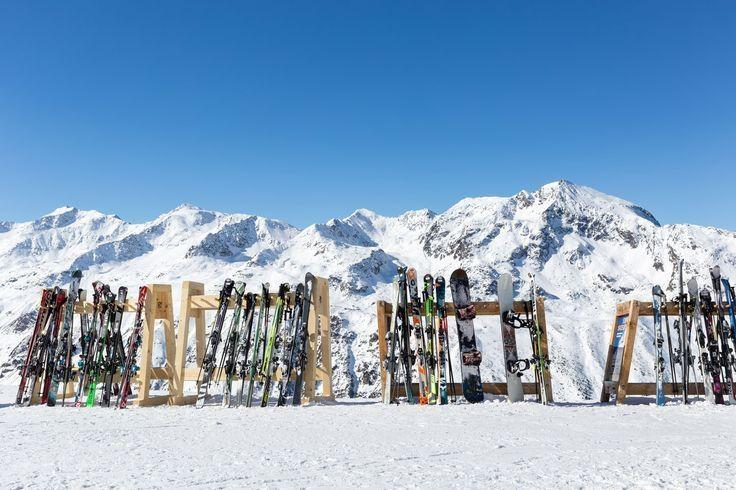Skis: (193, 278, 236, 410), (45, 269, 84, 407), (686, 276, 718, 409), (707, 263, 736, 406), (118, 284, 150, 409), (84, 292, 116, 409), (100, 285, 130, 408), (405, 265, 431, 406), (220, 280, 248, 409), (291, 272, 316, 406), (700, 286, 728, 405), (528, 272, 550, 408), (396, 263, 416, 404), (234, 292, 258, 408), (382, 276, 402, 406), (650, 282, 669, 406), (678, 256, 692, 405), (422, 273, 437, 405), (435, 276, 448, 407)
Snowboard: (447, 266, 485, 406), (496, 268, 528, 404)
